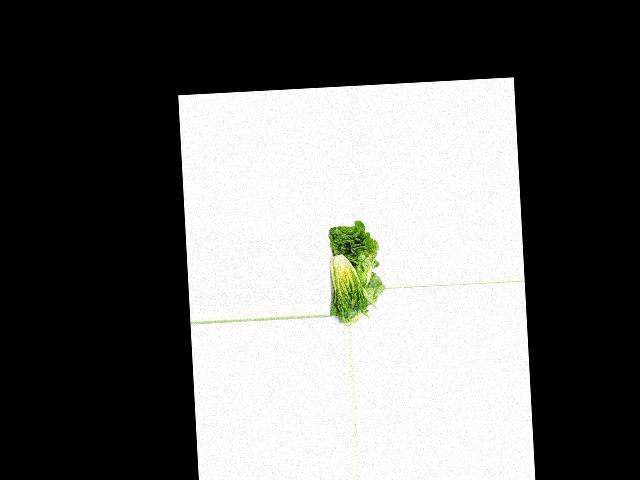lettuce: (324, 221, 380, 285)
